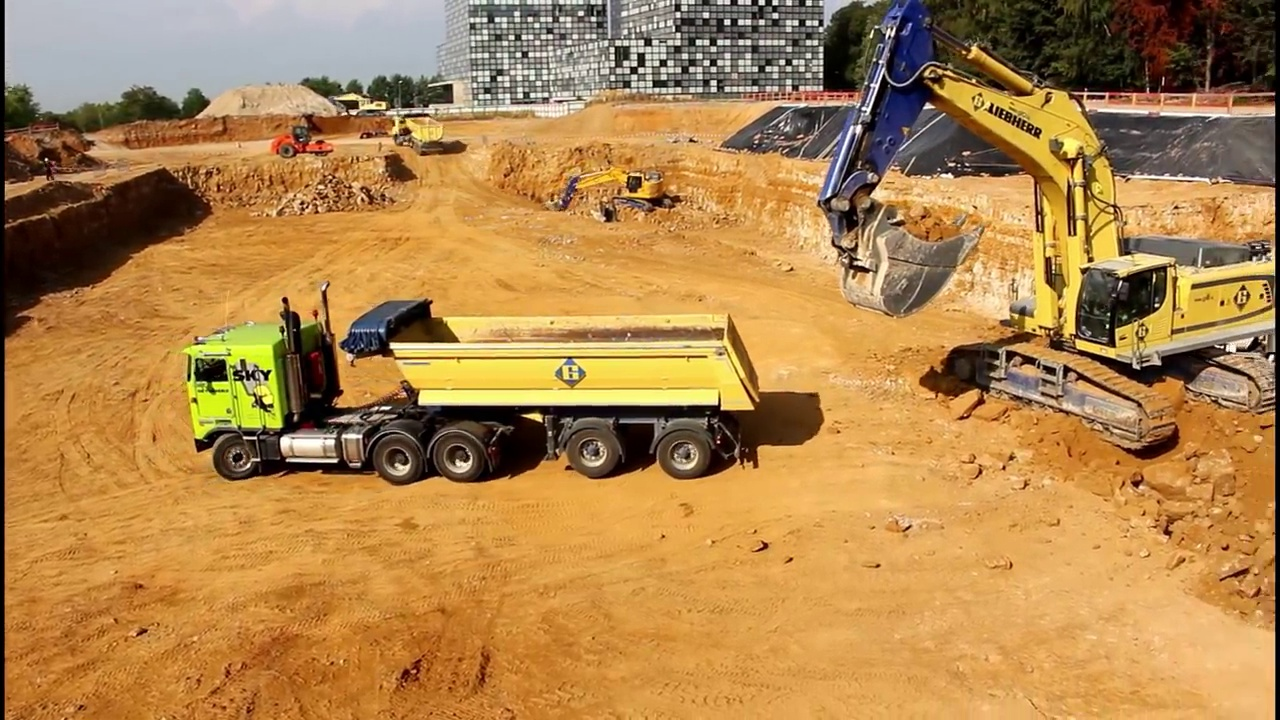bulldozer: (545, 158, 683, 224)
compactor: (266, 121, 337, 164)
excavator: (809, 1, 1280, 466), (337, 90, 391, 121)
truck: (176, 275, 771, 486), (390, 105, 452, 159)
